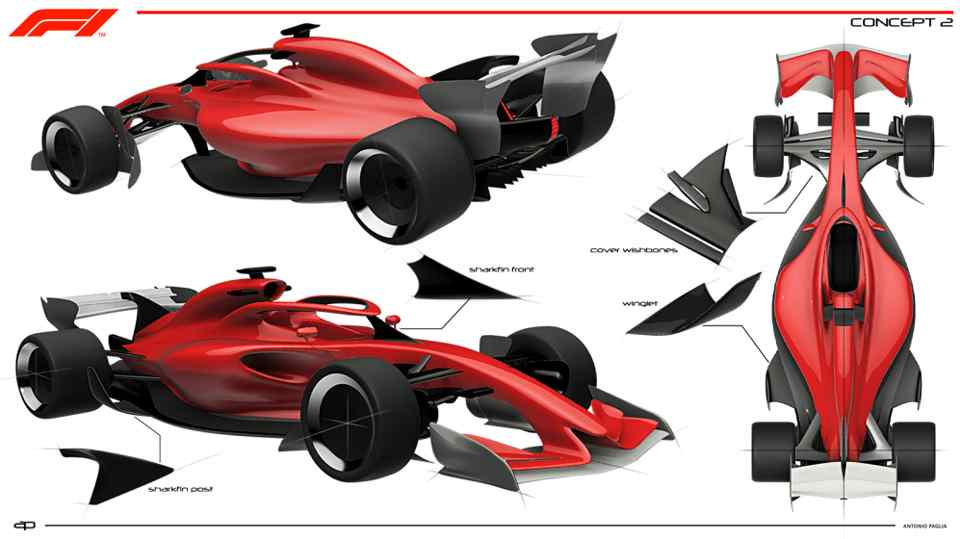f1_car: (8, 253, 688, 505), (27, 12, 630, 255), (744, 33, 947, 521)
